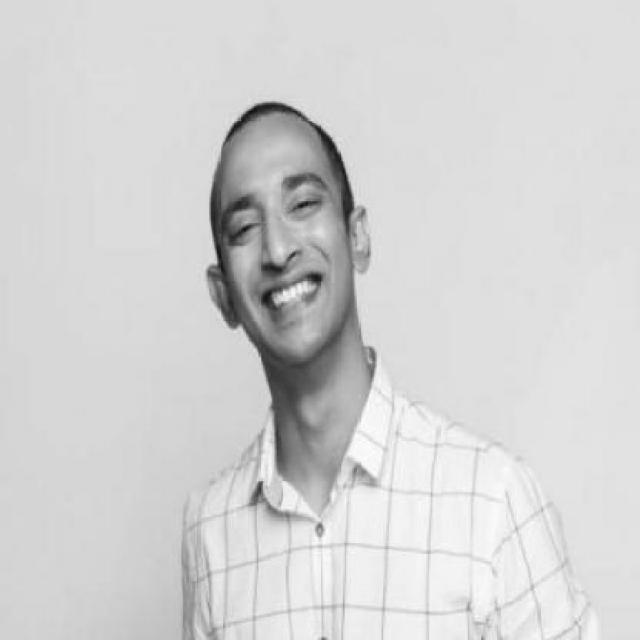happy: (222, 168, 332, 326)
